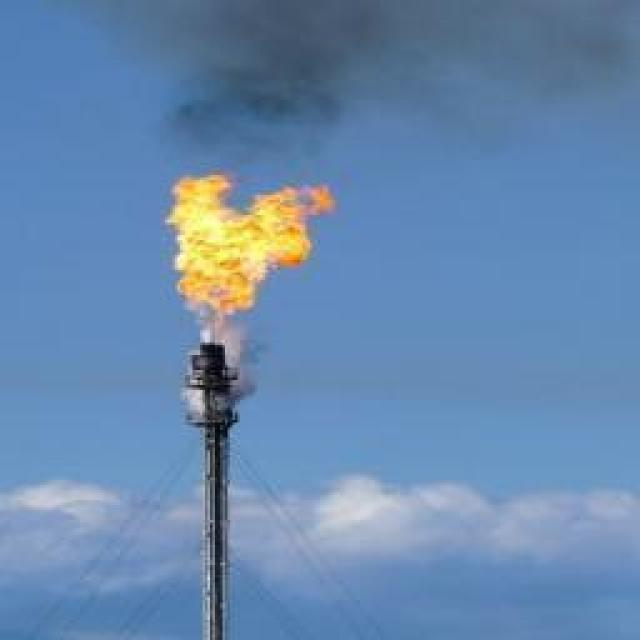fire: (167, 173, 334, 324)
smoke: (52, 0, 640, 192)
